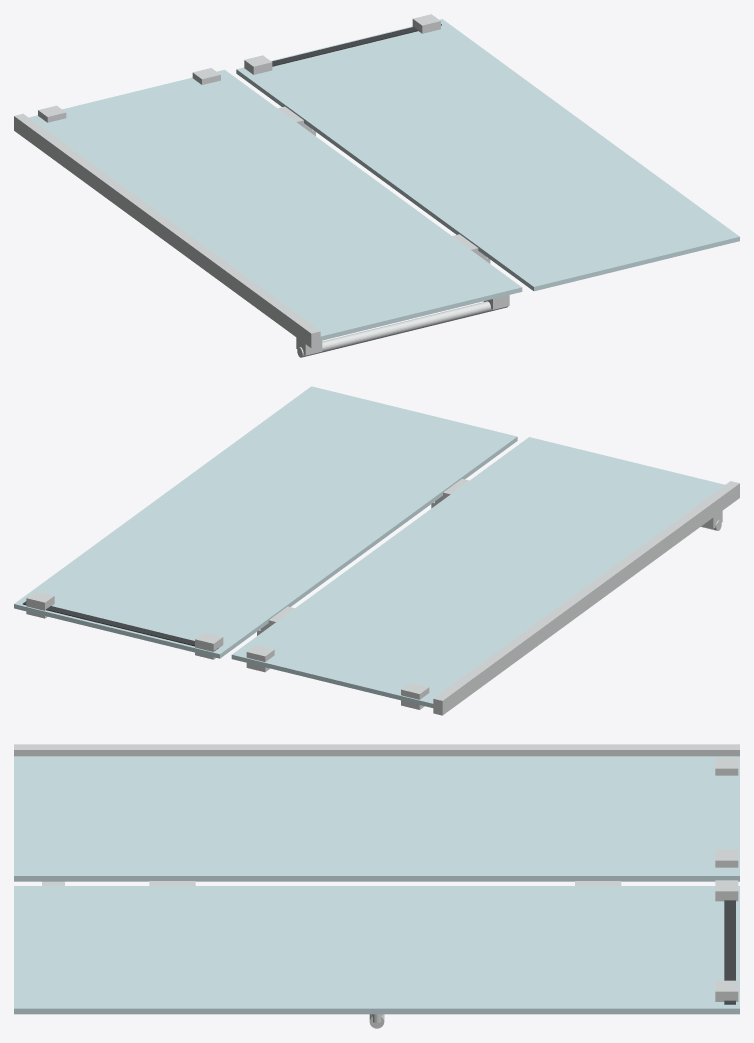
Rendered from frameless-shower-enclosure.glb.
3 renders of one model, top to bottom at view 1: azimuth 30°, elevation 25°; view 2: azimuth 150°, elevation 25°; view 3: azimuth 270°, elevation 25°, orthographic. The views are drawn at different scales.
Visible parts, largest first — view 1: door, fixed, fixed-wall-channel, support, door-sweep; view 2: door, fixed, fixed-wall-channel, door-sweep; view 3: door, fixed, fixed-wall-channel, door-sweep, clip-0.82, clip-0.1.
Boxes of the visible parts, <box> form: door: <box>236,19,739,291</box>; fixed: <box>29,69,522,340</box>; fixed-wall-channel: <box>14,113,320,348</box>; support: <box>297,301,507,357</box>; door-sweep: <box>272,24,441,66</box>; door: <box>14,386,517,658</box>; fixed: <box>231,437,724,707</box>; fixed-wall-channel: <box>433,481,739,715</box>; door-sweep: <box>22,601,218,650</box>; door: <box>14,886,739,1014</box>; fixed: <box>14,756,739,881</box>; fixed-wall-channel: <box>14,744,739,756</box>; door-sweep: <box>724,900,735,1004</box>; clip-0.82: <box>715,980,738,1001</box>; clip-0.1: <box>715,880,738,901</box>.
Bounding box in the file's own units: 1.83 × 0.1745 × 2.2.
